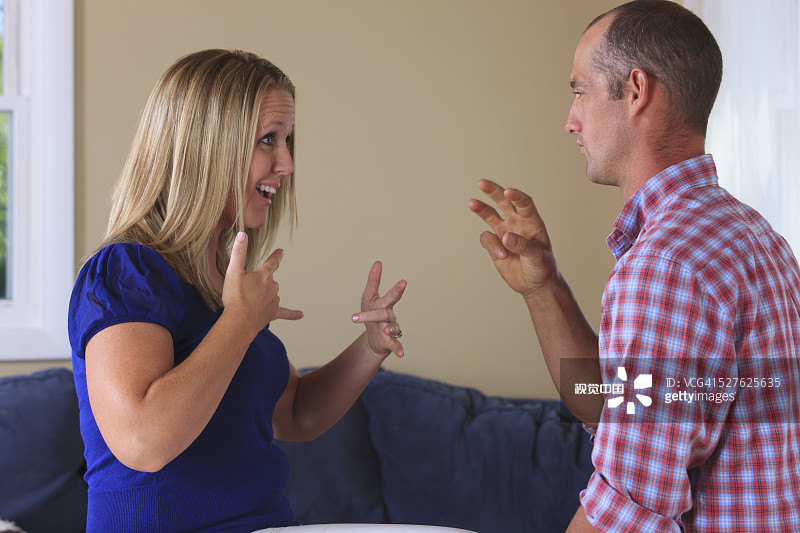no-phone: (450, 167, 567, 309), (215, 222, 314, 341), (338, 247, 433, 366)
